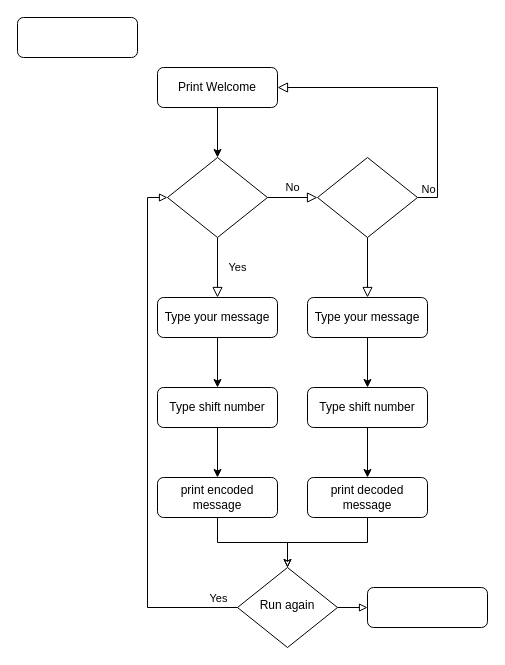
This 505x665 diagram has some shape labels left out. The shapes that lost their labels are listed below. From the top down, each one's centre as x and y in pixels, then its label:
(x=77, y=37): Ceasar Ciphor
(x=217, y=197): Would you like to encode
(x=367, y=197): Would you like to decode
(x=427, y=607): Exit program
